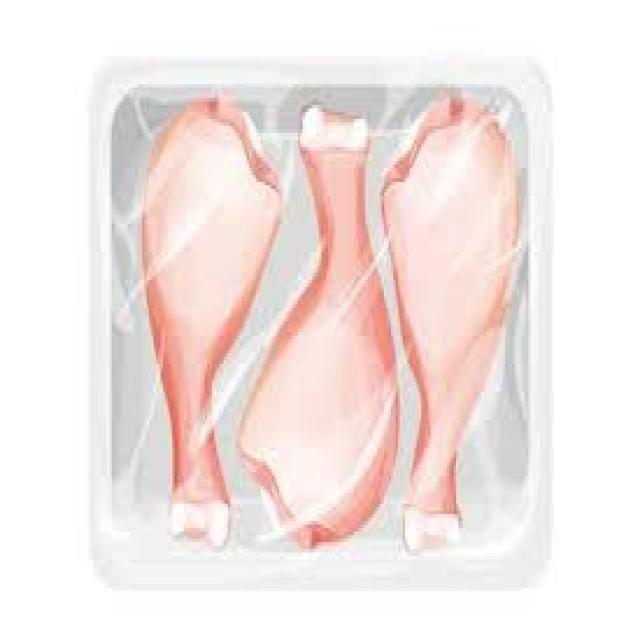leg: (265, 98, 406, 551), (384, 93, 514, 554), (136, 86, 258, 554)
